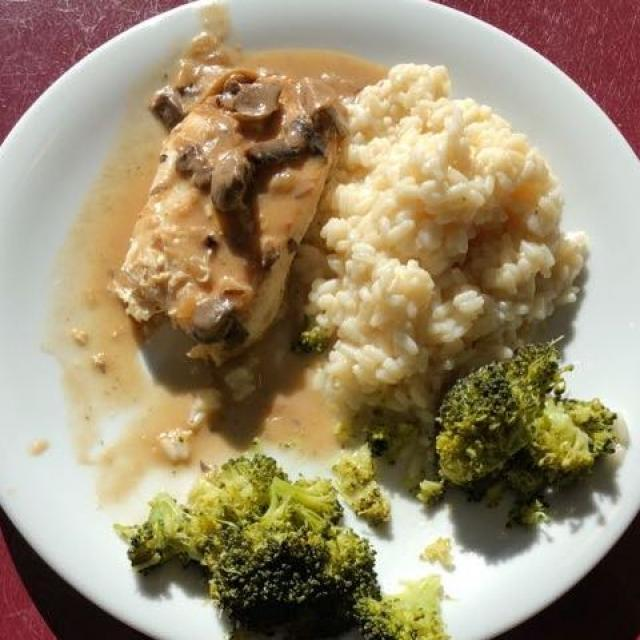broccoli: (146, 347, 630, 639)
chicken-breast: (113, 71, 380, 371)
risotto: (308, 62, 594, 413)
sauce: (52, 57, 367, 488)
